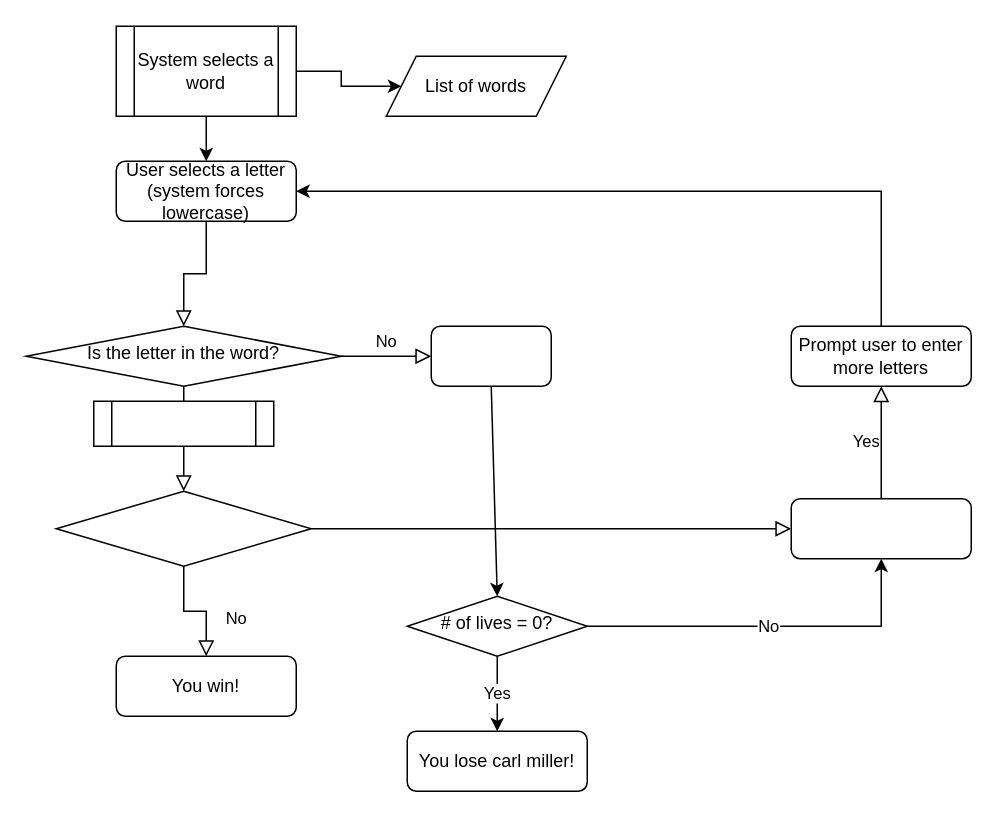
Image size: 998x818. Some labels were removed from this diagram. The shapes that lost their labels are listed below. From the top down, each one's centre as x and y in pixels, then its label:
At pixel 490 355: "# of lives decrease by 1".
At pixel 183 423: "replace blank with letter".
At pixel 183 528: "Letters remaining?".
At pixel 880 528: "Present current state of word or underscores".
